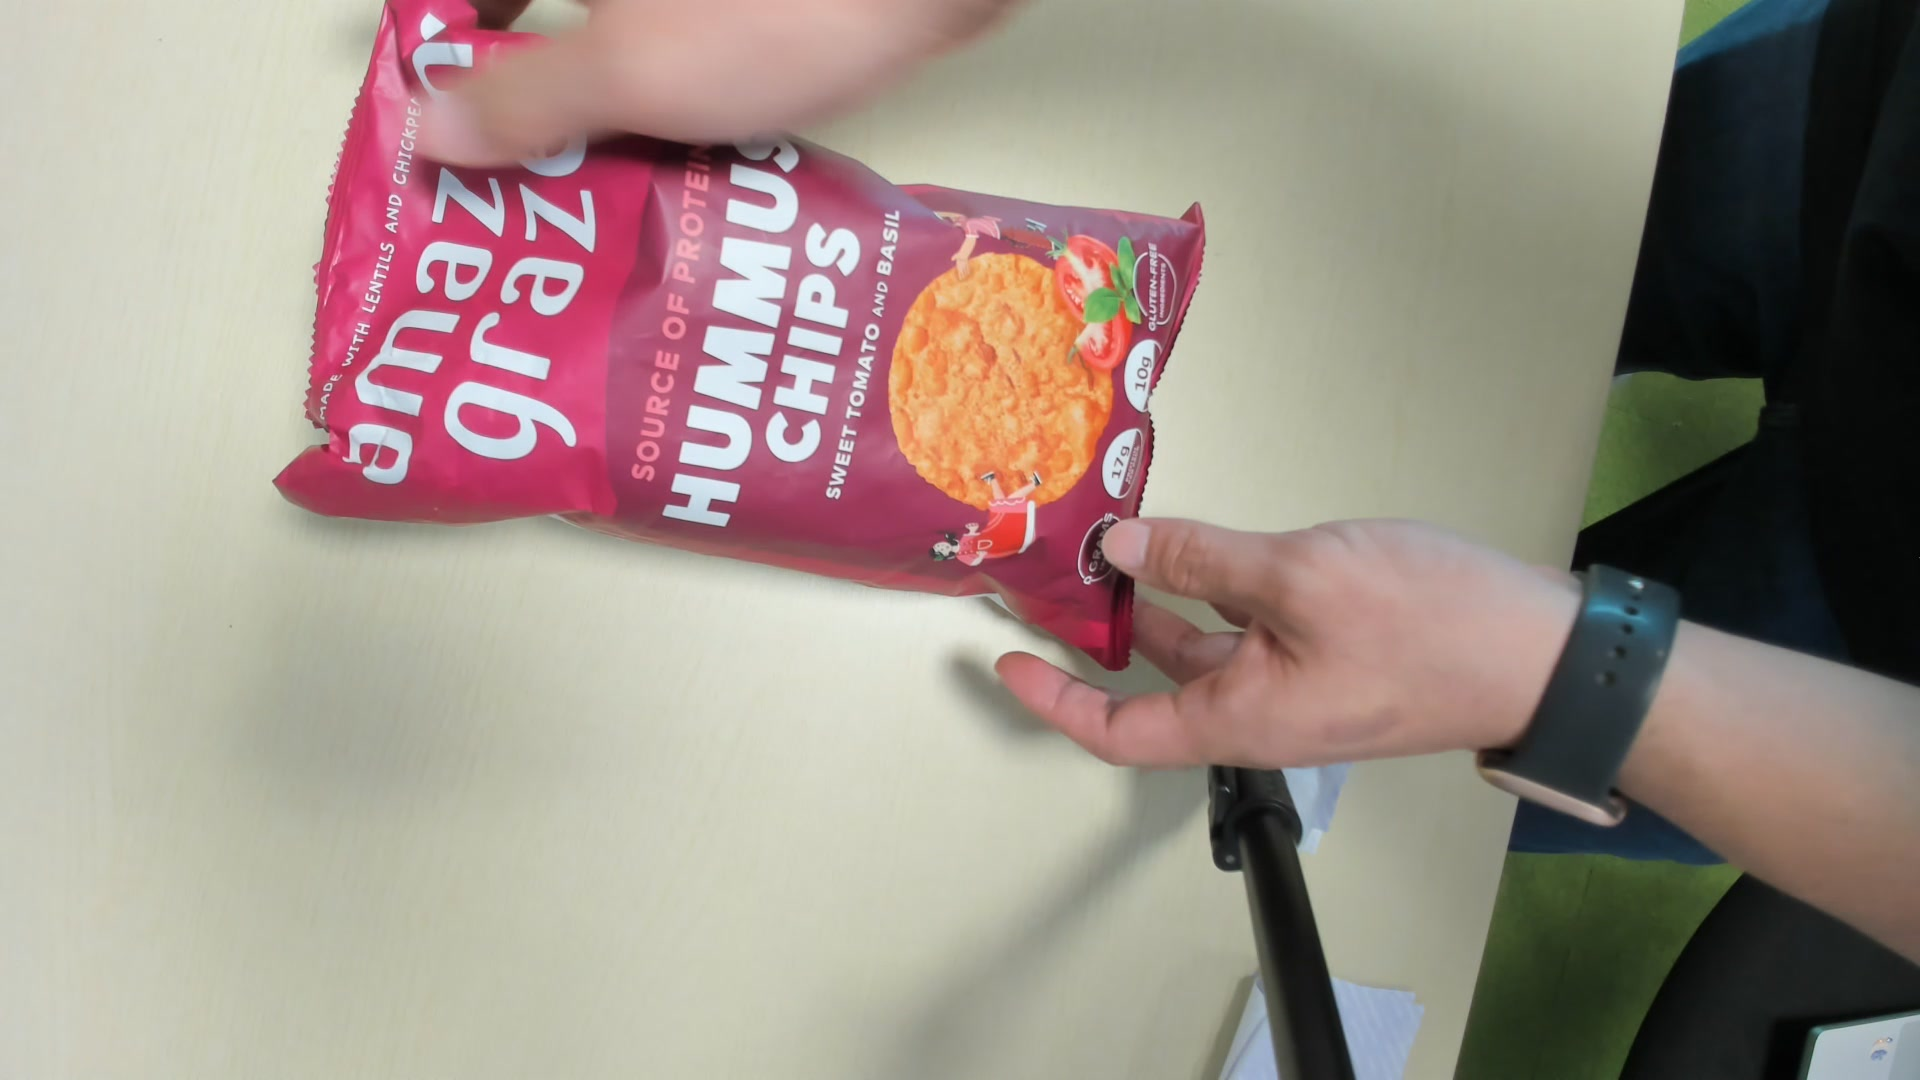PotatoChipsKeropok_100-199g_NonHalal_NonHealthy: (284, 1, 1211, 667)
